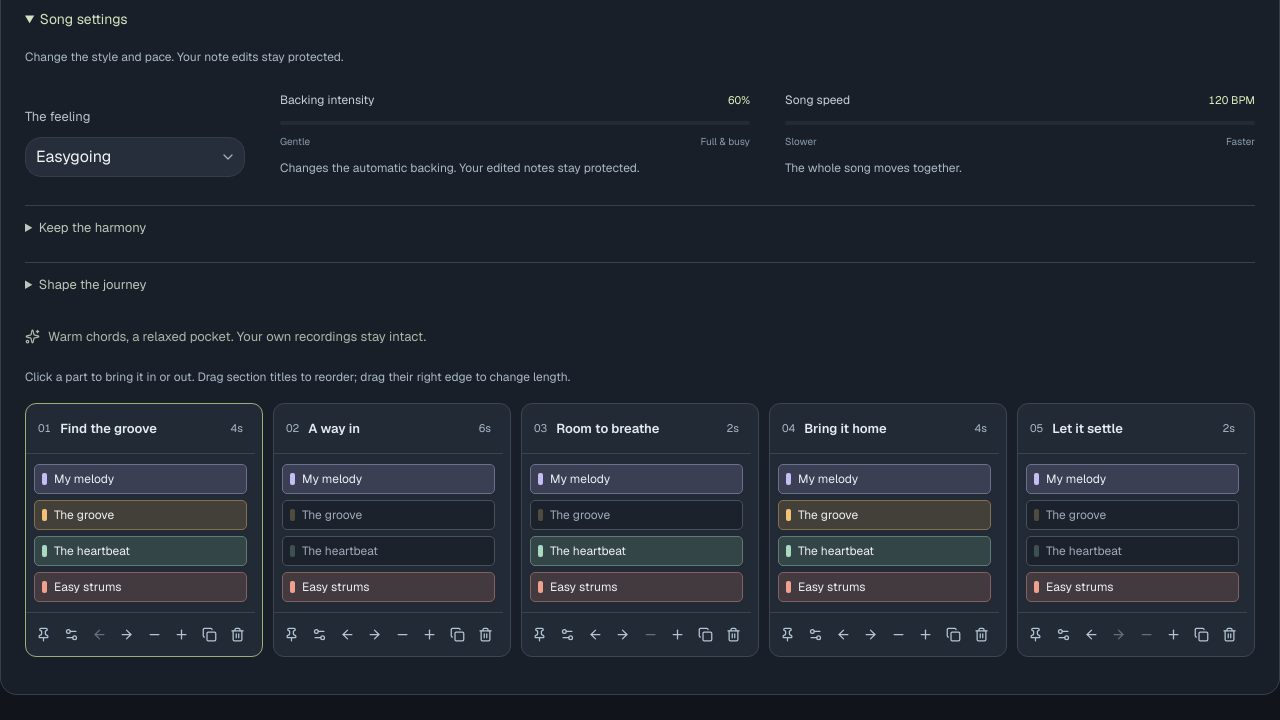
Test: arrangement controls change audible section membership, order and length
The image size is (1280, 720).
Earlier steps of the test are not shown.
Later steps or results of the test are not shown.
(page scrolled)
Step 1. Click the button named "Shape Find the groove" → (71, 635), box [59, 618, 83, 651]
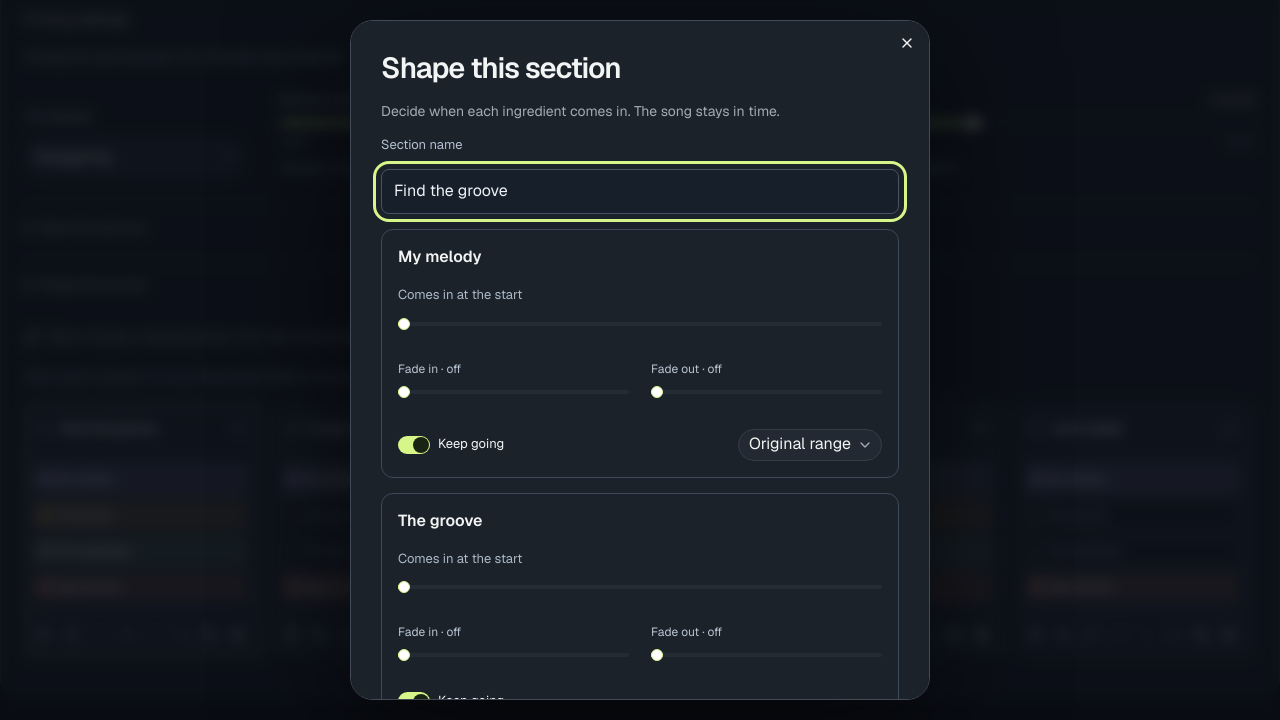
Check: the dialog is shown, box [350, 20, 930, 700]
